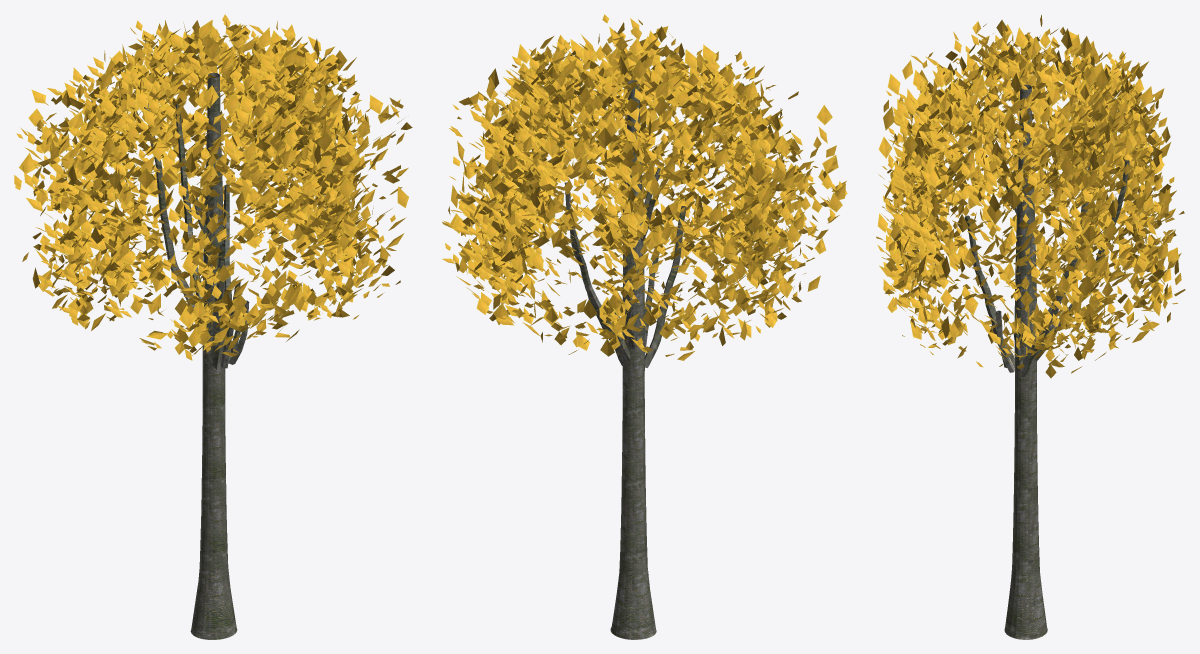
Rendered from tree_27.glb.
3 views of the same model, side by side, from view 1: azimuth 30°, elevation 25°; view 2: azimuth 150°, elevation 25°; view 3: azimuth 270°, elevation 25° (orthographic). The views are drawn at different scales.
Visible parts, largest first — view 1: MainBuilding; view 2: MainBuilding; view 3: MainBuilding.
Part boxes in pixels (x1,y1,x2,y2): MainBuilding: [14, 14, 412, 639]; MainBuilding: [442, 14, 847, 639]; MainBuilding: [876, 15, 1185, 639].
Bounding box in the file's own units: 0.5894 × 1.05 × 0.4946.
1 material, 1 textured.
